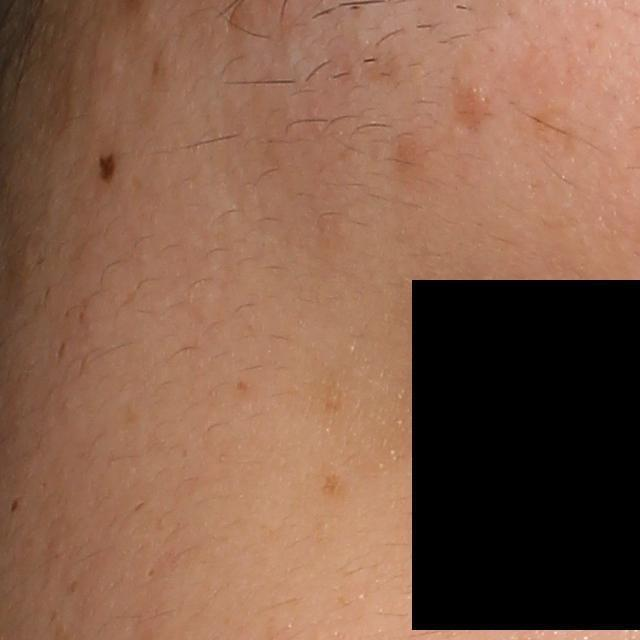nevus: (98, 152, 118, 185)
